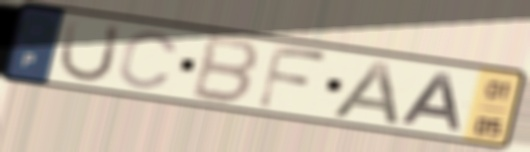A: (327, 58, 405, 128), (397, 71, 466, 134)
B: (187, 32, 265, 108)
C: (115, 29, 182, 92)
F: (254, 42, 331, 113)
U: (55, 15, 126, 84)
